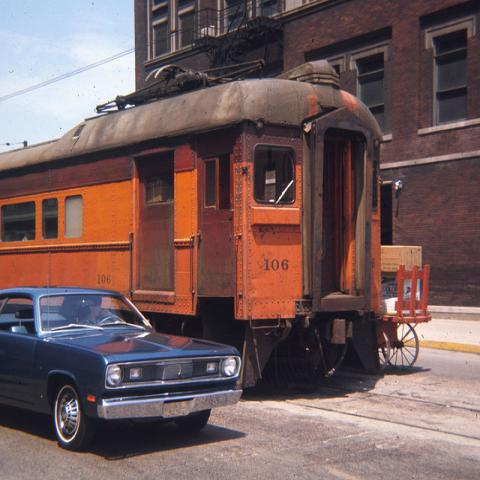car: (1, 289, 242, 453)
